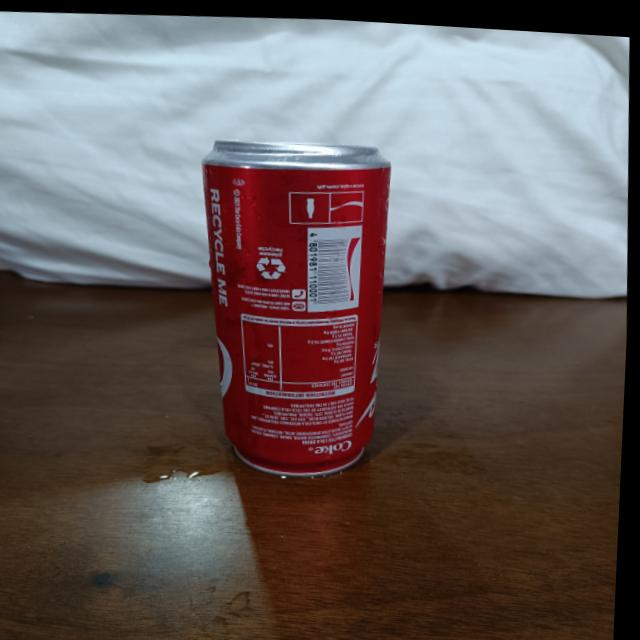coke: (188, 127, 396, 479)
